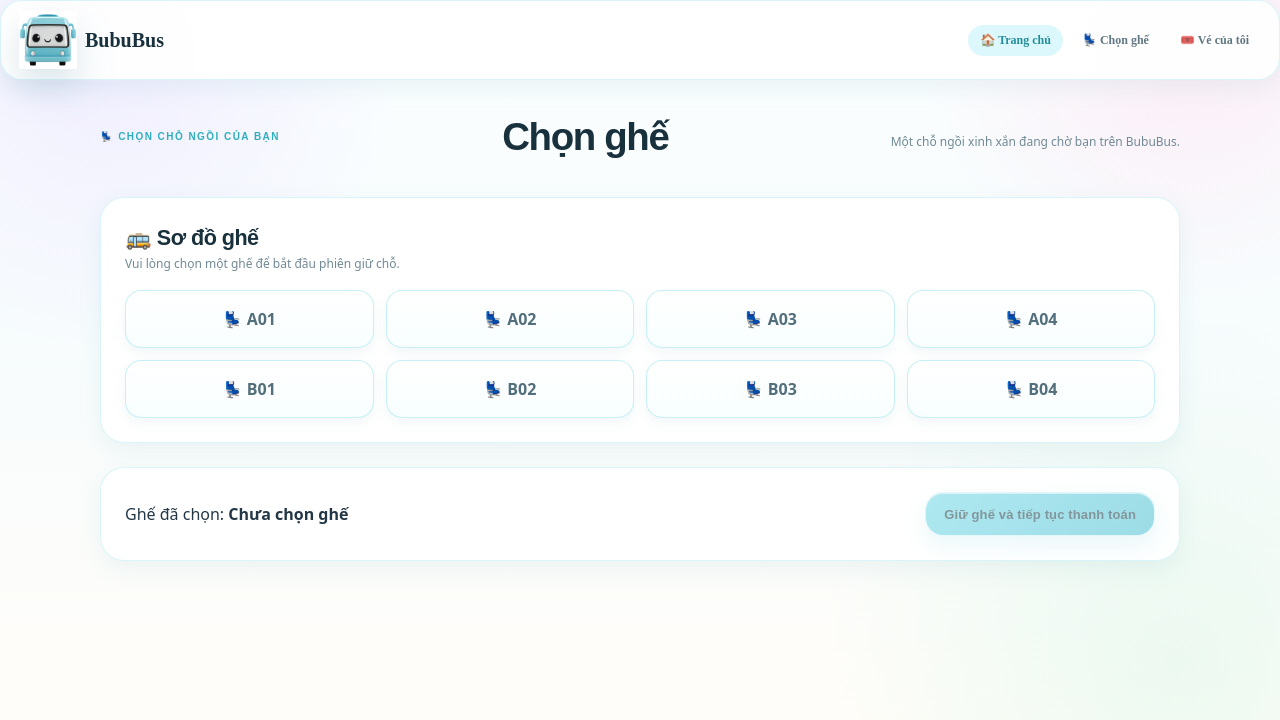
SelectSeat › cho phép người dùng chọn ghế
This screenshot has width=1280, height=720.
Click the button "💺 A01" at (249, 319), box [125,290,374,348]
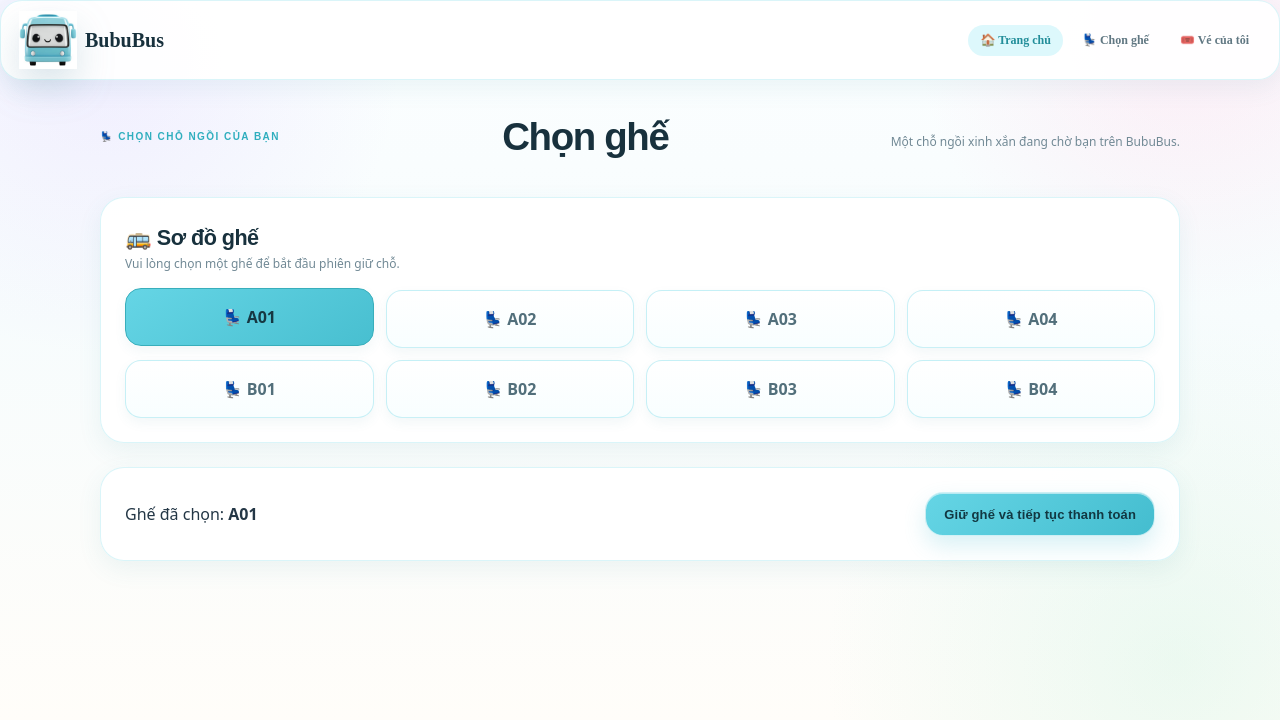
Check: the button "Giữ ghế và tiếp tục thanh toán" is enabled, box [925,492,1155,536]
